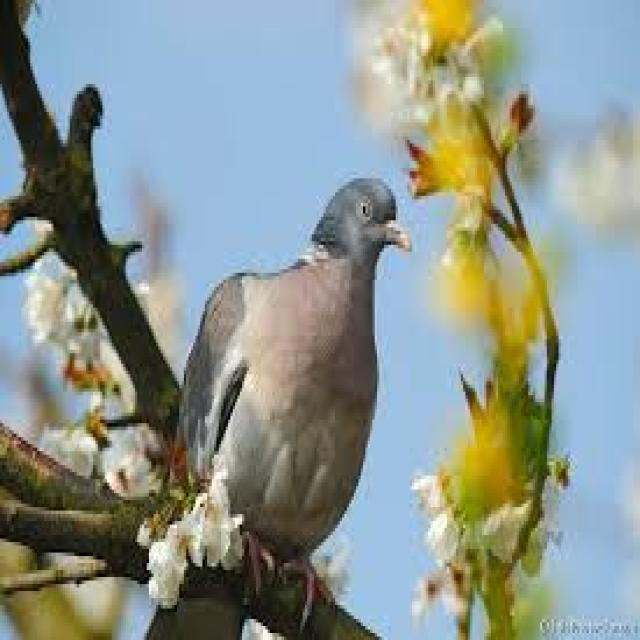pigeon: (168, 151, 418, 589)
